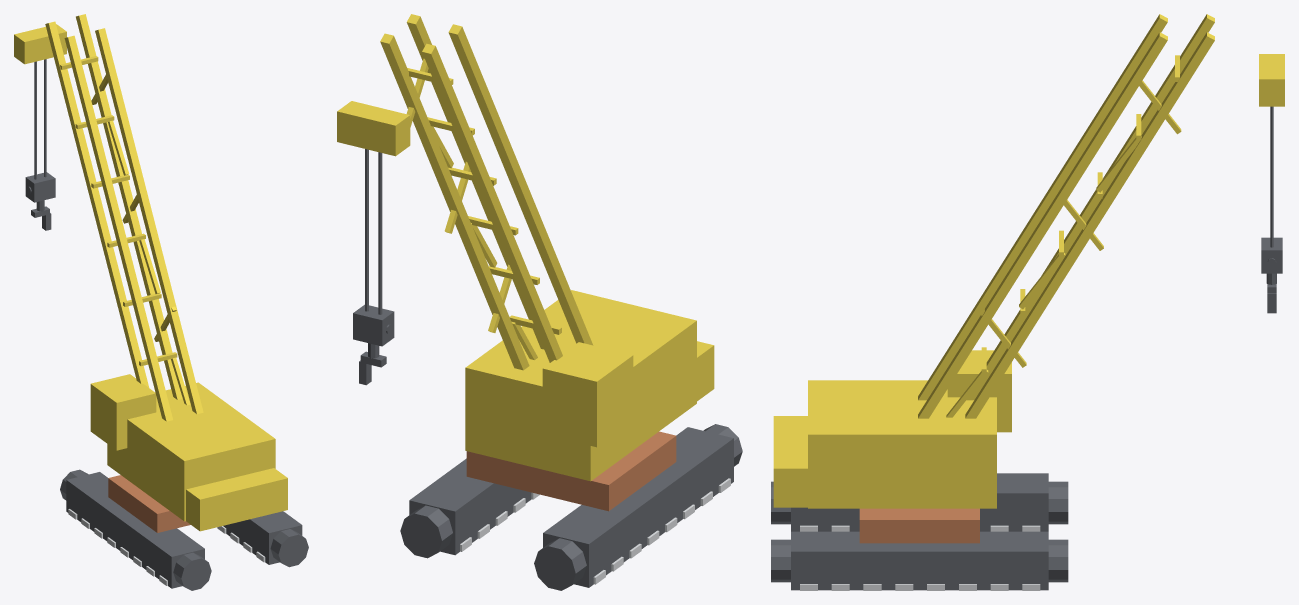
3 views of the same model, side by side, from view 1: azimuth 30°, elevation 25°; view 2: azimuth 150°, elevation 25°; view 3: azimuth 270°, elevation 25° (orthographic). The views are drawn at different scales.
Parts seen in each view (by area): view 1: crawler-house, shipyard-and-dry-dock-crawler-crane, crawler-hook; view 2: crawler-house, shipyard-and-dry-dock-crawler-crane, crawler-hook; view 3: crawler-house, shipyard-and-dry-dock-crawler-crane, crawler-hook.
Part boxes in pixels (box(x1,y1,x2,y2)): crawler-house: box(14, 14, 287, 531); shipyard-and-dry-dock-crawler-crane: box(60, 469, 308, 590); crawler-hook: box(25, 59, 55, 230); crawler-house: box(337, 14, 714, 481); shipyard-and-dry-dock-crawler-crane: box(400, 424, 742, 590); crawler-hook: box(353, 149, 394, 385); crawler-house: box(773, 14, 1284, 508); shipyard-and-dry-dock-crawler-crane: box(771, 473, 1068, 590); crawler-hook: box(1261, 106, 1282, 313).
Bounding box in the file's own units: 4.4 × 13.52 × 11.96.
